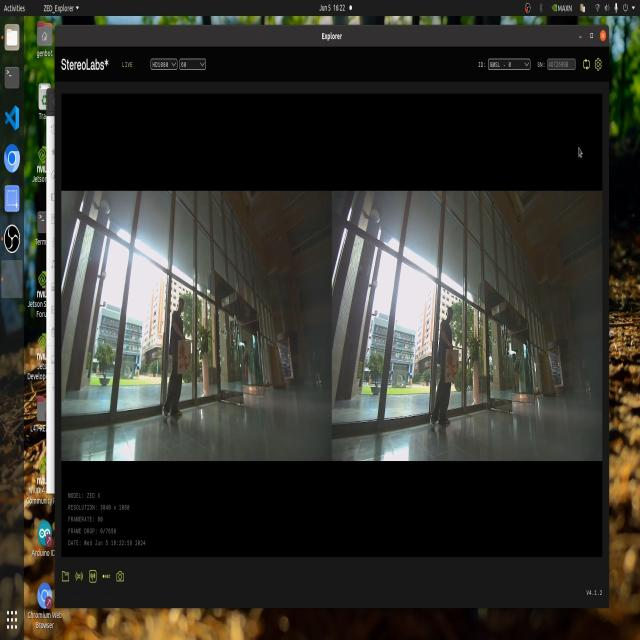red: (172, 335, 199, 376), (451, 345, 469, 399)
